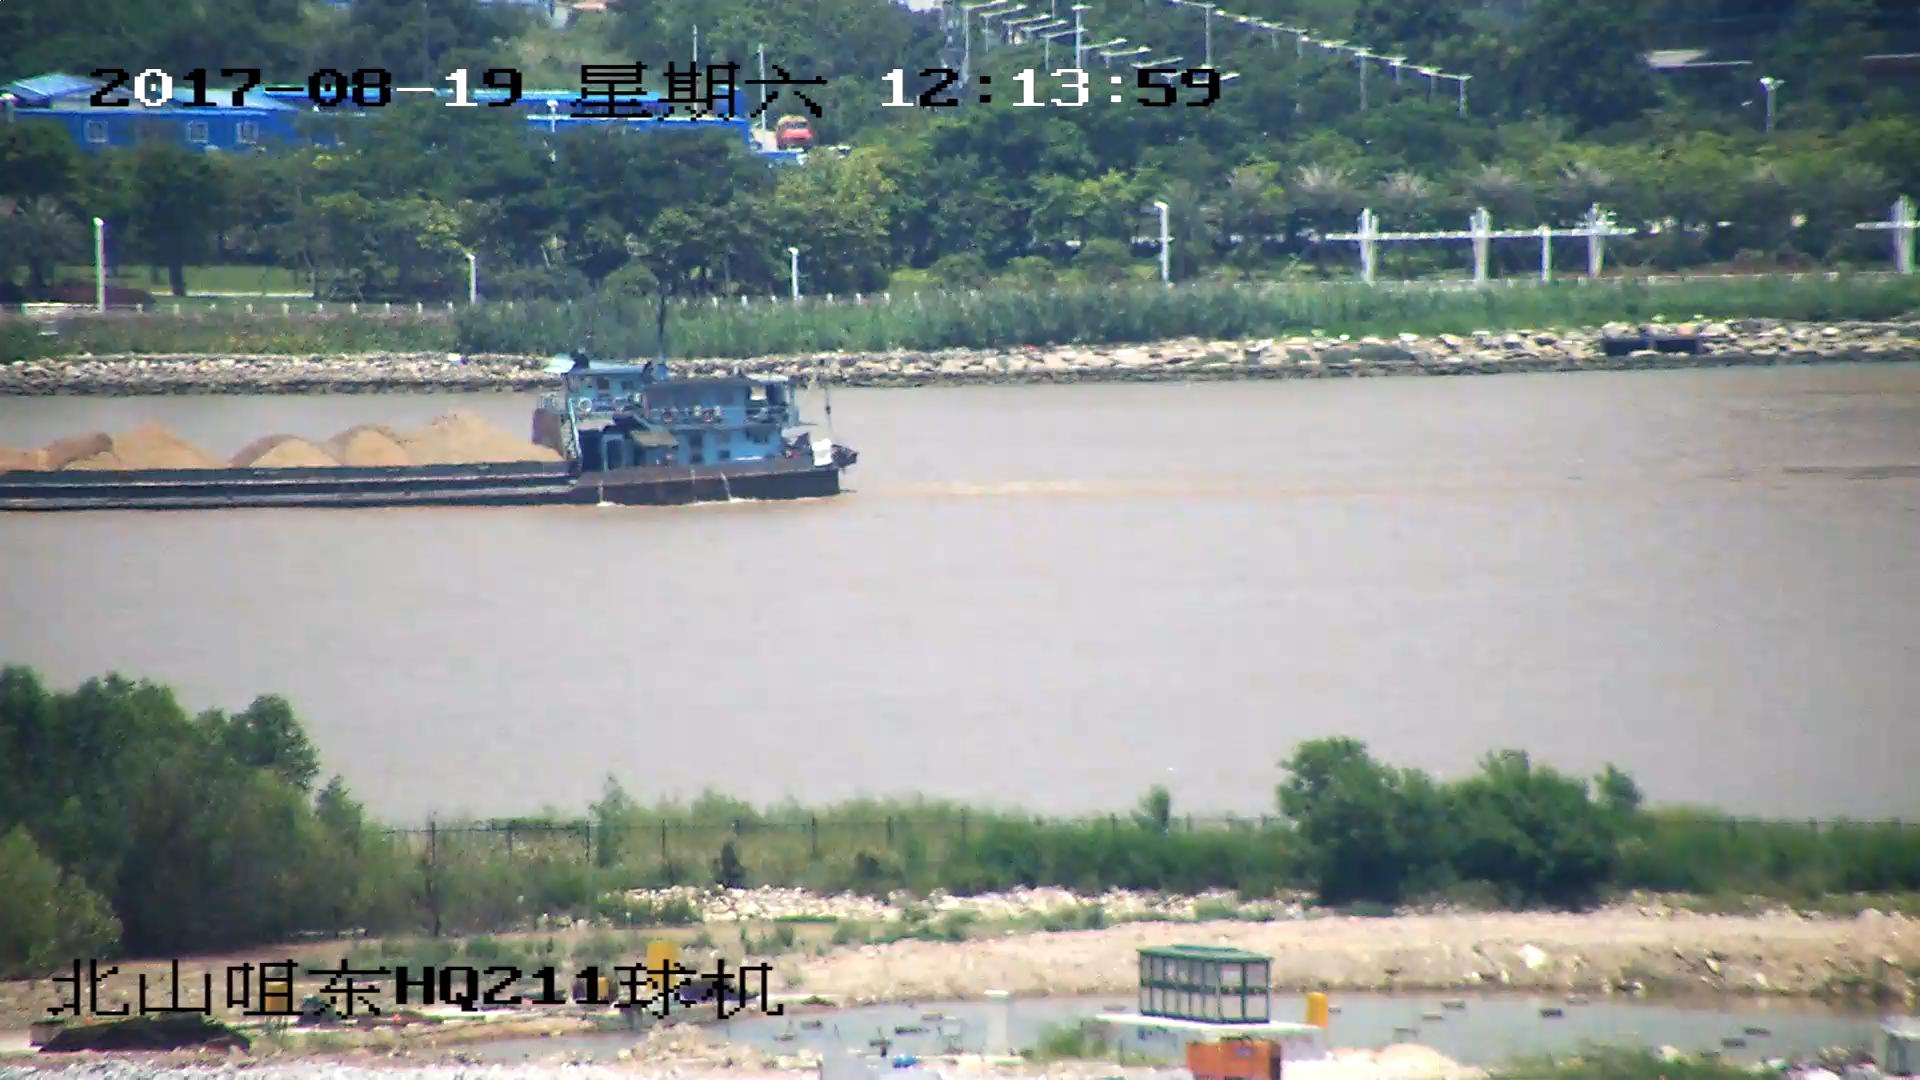ore carrier: (1, 345, 857, 507)
